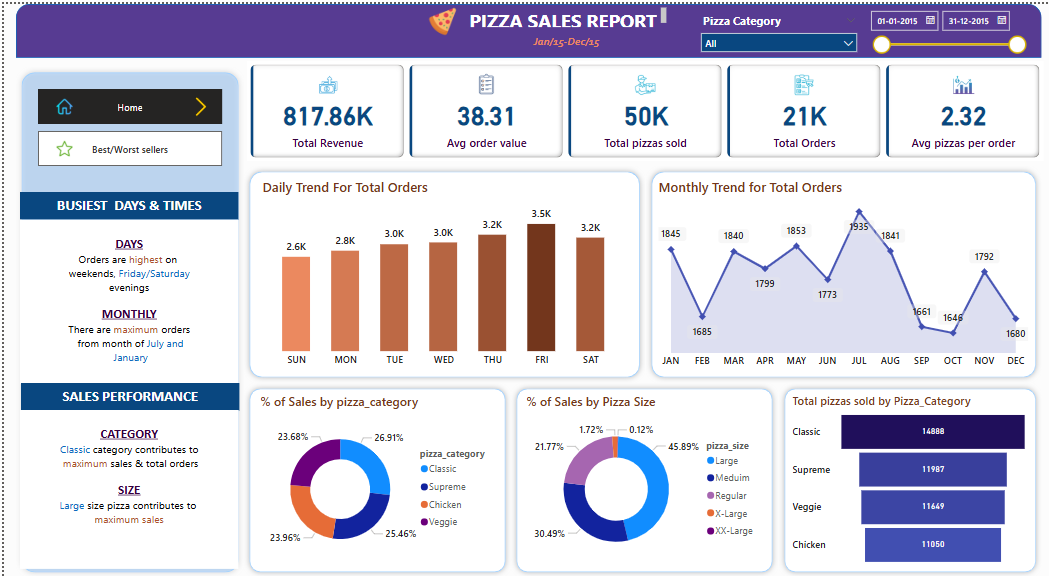

This screenshot's page, from the dashboard's own definition file:
{"tool":"powerbi","page":{"name":"Home","canvas":[1500,820],"ordinal":0},"visuals":[{"type":"shape","box":[17,90,326,730],"z":0},{"type":"cardVisual","fields":{"Data":["pizza_sales.Total Revenue","pizza_sales.Avg order value","pizza_sales.Total pizzas sold","pizza_sales.Total Orders","pizza_sales.Avg pizzas per order"]},"box":[346.7,81.7,1138.3,143.3],"z":1000},{"type":"shape","box":[16.7,0,1465,76.7],"z":2000},{"type":"textbox","box":[655,0,296.7,38.3],"z":3000},{"type":"textbox","box":[741.7,38.3,123.3,38.3],"z":4000},{"type":"image","box":[598.3,0,56.7,50],"z":5000},{"type":"shape","box":[343.3,231.7,573.3,310],"z":6000},{"type":"columnChart","title":"Daily Trend For Total Orders","fields":{"Category":["pizza_sales.Order Day"],"Y":["pizza_sales.Total Orders"]},"box":[365,248.3,528.3,278.3],"z":7000},{"type":"shape","box":[916.7,231.7,565,310],"z":8000},{"type":"areaChart","title":"Monthly Trend for Total Orders","fields":{"Category":["pizza_sales.Order Month"],"Y":["pizza_sales.Total Orders"]},"box":[930,248.3,538.3,280],"z":9000},{"type":"shape","box":[343.3,541.7,381.7,278.3],"z":10000},{"type":"shape","box":[725,541.7,381.7,278.3],"z":11000},{"type":"shape","box":[1106.7,541.7,375,278.3],"z":12000},{"type":"donutChart","title":"% of Sales by pizza_category","fields":{"Category":["pizza_sales.pizza_category"],"Y":["pizza_sales.Total Revenue"]},"box":[361.7,555,346.7,251.7],"z":13000},{"type":"donutChart","title":"% of Sales by Pizza Size","fields":{"Category":["pizza_sales.pizza_size"],"Y":["pizza_sales.Total Revenue"]},"box":[741.7,555,346.7,251.7],"z":14000},{"type":"funnel","title":"Total pizzas sold by Pizza_Category","fields":{"Y":["pizza_sales.Total pizzas sold"],"Category":["pizza_sales.pizza_category"]},"box":[1121.7,555,346.7,251.7],"z":15000},{"type":"textbox","box":[23,269,312,39],"z":16000},{"type":"textbox","box":[23,308,312,234],"z":17000},{"type":"textbox","box":[24,542,312,39],"z":18000},{"type":"textbox","box":[23,580,312,227],"z":19000},{"type":"slicer","fields":{"Values":["pizza_sales.pizza_category"]},"box":[985,8.3,243.3,60],"z":20000},{"type":"slicer","fields":{"Values":["pizza_sales.order_date"]},"box":[1225,0,243.3,76.7],"z":21000},{"type":"pageNavigator","box":[48.3,121.7,263.3,50],"z":22000},{"type":"pageNavigator","box":[48.3,181.7,263.3,50],"z":23000},{"type":"image","box":[70,186.7,33.3,38.3],"z":24000},{"type":"image","box":[70,126.7,33.3,38.3],"z":25000},{"type":"image","box":[263.3,126.7,36.7,38.3],"z":26000}]}

Visuals, with their boxes in screenshot pixels (x1, y1, x2, y2), scaled from the page's 1500x820 canvas onto the 1049x576 screenshot:
shape: crop(12, 63, 240, 575)
cardVisual - pizza_sales.Total Revenue x pizza_sales.Avg order value: crop(242, 57, 1039, 158)
shape: crop(12, 0, 1036, 54)
textbox: crop(458, 0, 666, 27)
textbox: crop(519, 27, 605, 54)
image: crop(418, 0, 458, 35)
shape: crop(240, 163, 641, 381)
"Daily Trend For Total Orders" columnChart: crop(255, 174, 625, 370)
shape: crop(641, 163, 1036, 381)
"Monthly Trend for Total Orders" areaChart: crop(650, 174, 1027, 371)
shape: crop(240, 381, 507, 575)
shape: crop(507, 381, 774, 575)
shape: crop(774, 381, 1036, 575)
"% of Sales by pizza_category" donutChart: crop(253, 390, 495, 567)
"% of Sales by Pizza Size" donutChart: crop(519, 390, 761, 567)
"Total pizzas sold by Pizza_Category" funnel: crop(784, 390, 1027, 567)
textbox: crop(16, 189, 234, 216)
textbox: crop(16, 216, 234, 381)
textbox: crop(17, 381, 235, 408)
textbox: crop(16, 407, 234, 567)
slicer - pizza_sales.pizza_category: crop(689, 6, 859, 48)
slicer - pizza_sales.order_date: crop(857, 0, 1027, 54)
pageNavigator: crop(34, 85, 218, 121)
pageNavigator: crop(34, 128, 218, 163)
image: crop(49, 131, 72, 158)
image: crop(49, 89, 72, 116)
image: crop(184, 89, 210, 116)
